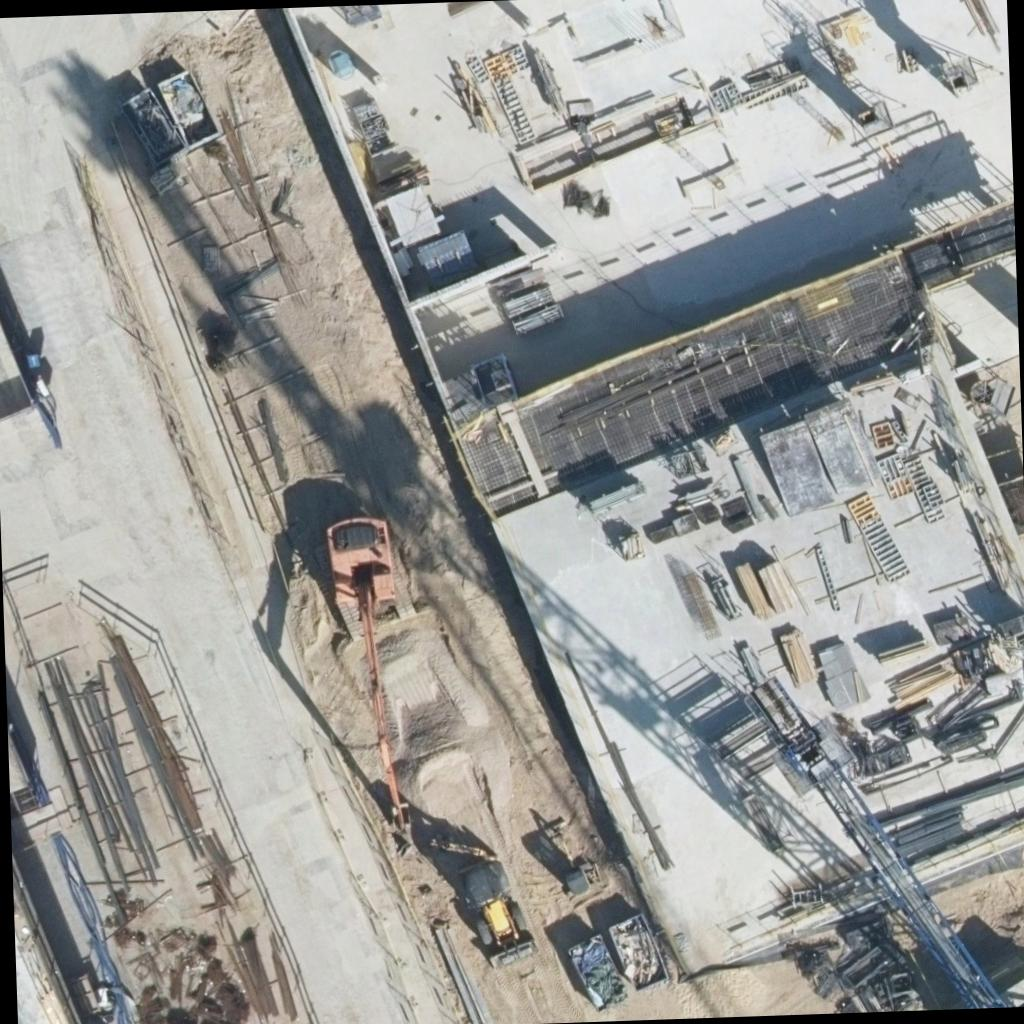koparka: (326, 516, 408, 833), (432, 836, 536, 968)
zuraw_wiezowy: (748, 664, 1004, 1014)
